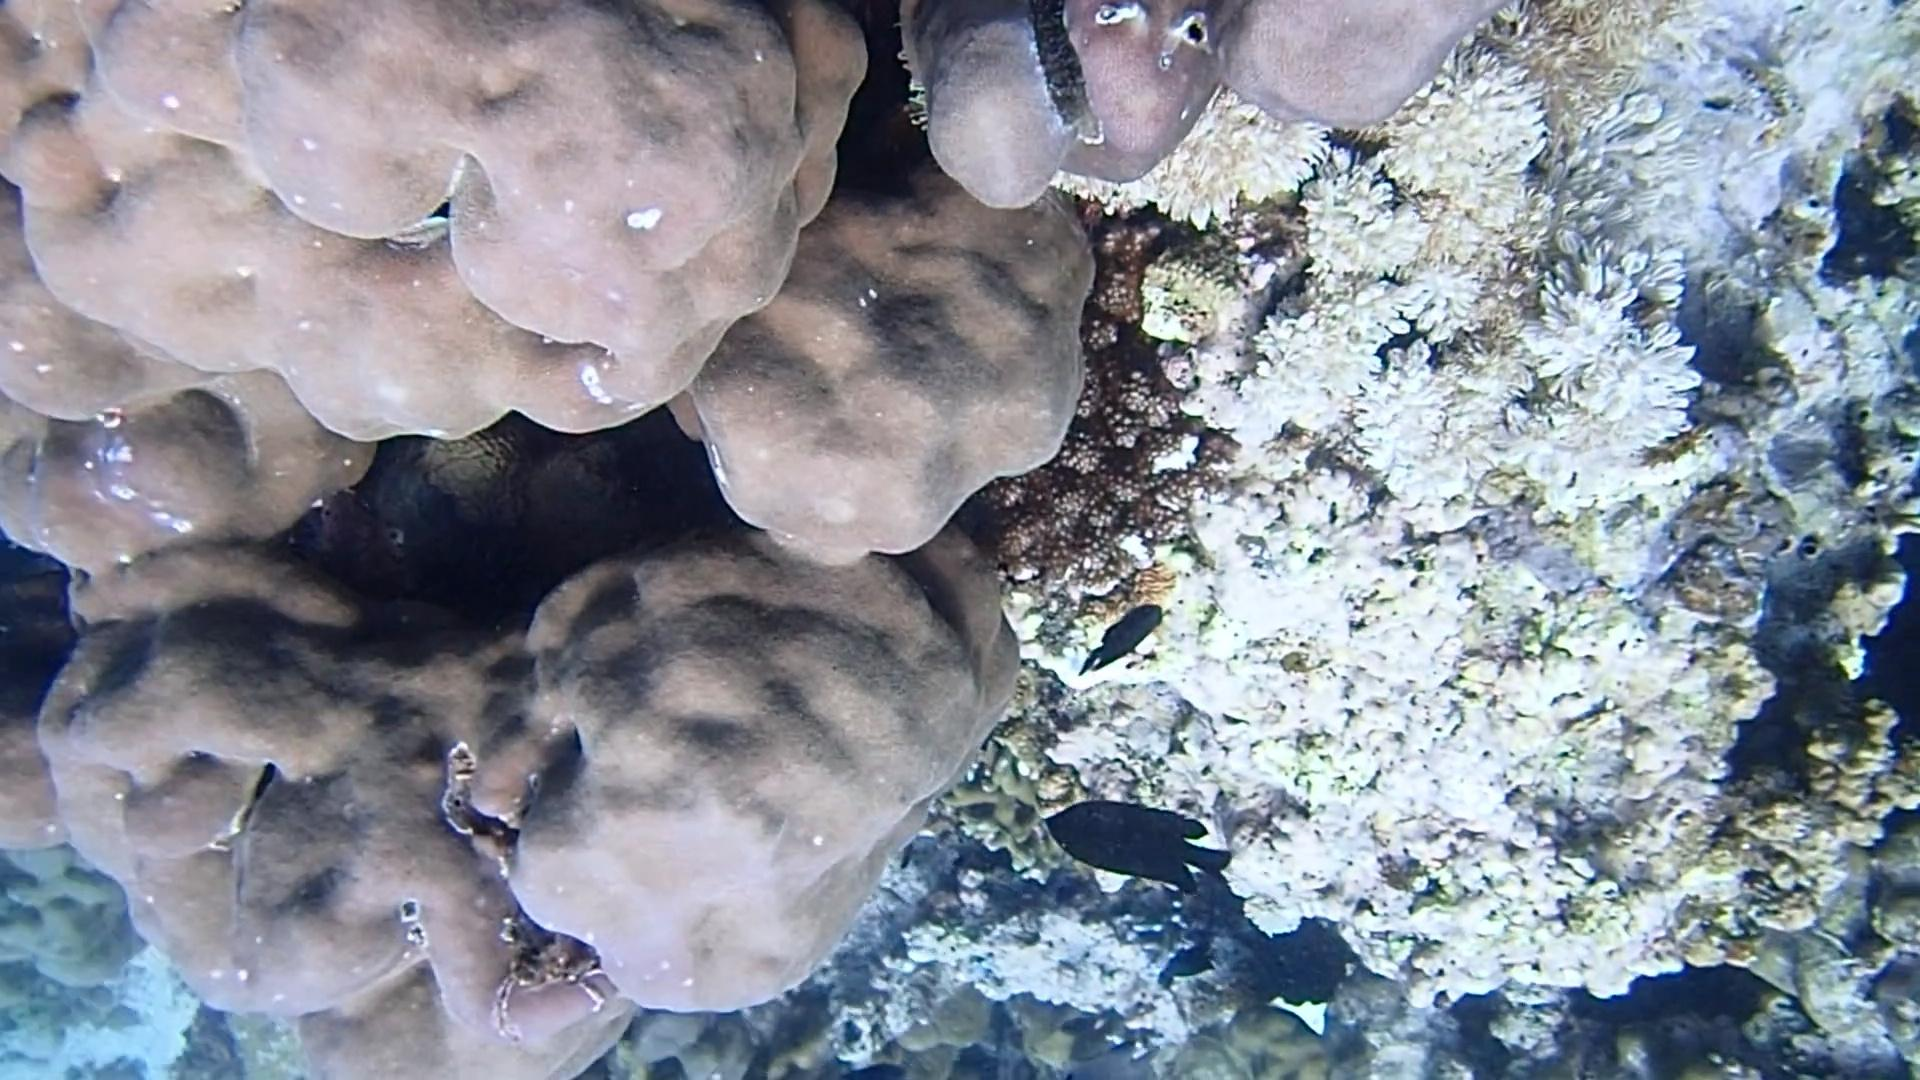Dark Fish: (1036, 791, 1236, 903), (1075, 595, 1172, 683), (1156, 939, 1225, 985)
